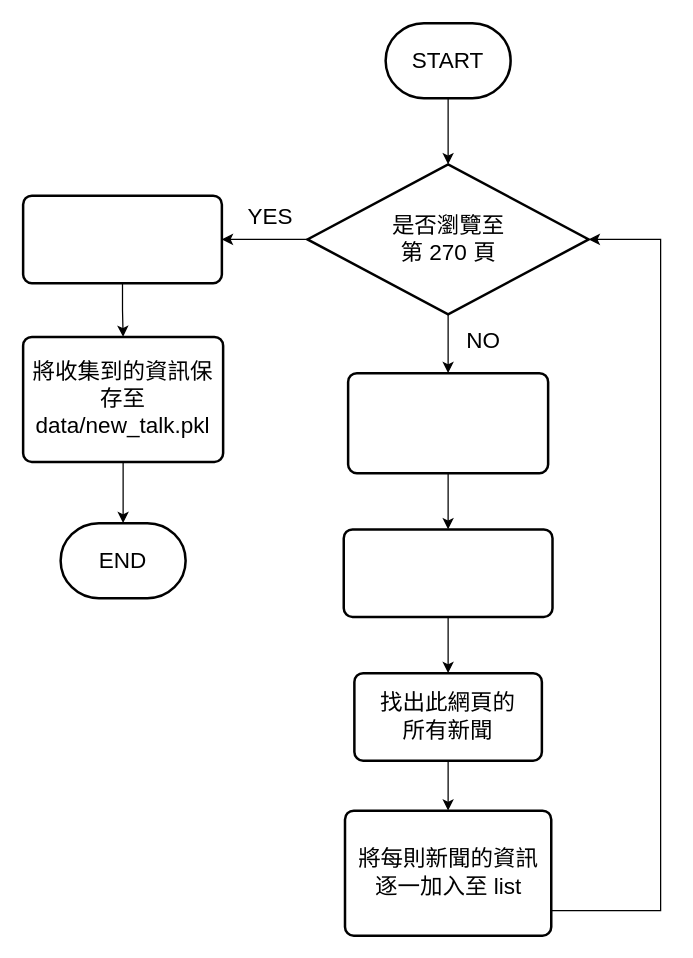
The diagram is 693 pixels wide and 958 high, and some of its shapes have lost their labels. The box of each missing label's shape, as (x1, y1, x2, y2) in pixels:
使用 GET 方式 下載網頁: (346, 371, 549, 474)
解析 HTML 程式碼: (342, 528, 553, 618)
設定遞迴最多能到100000層: (21, 194, 222, 284)
